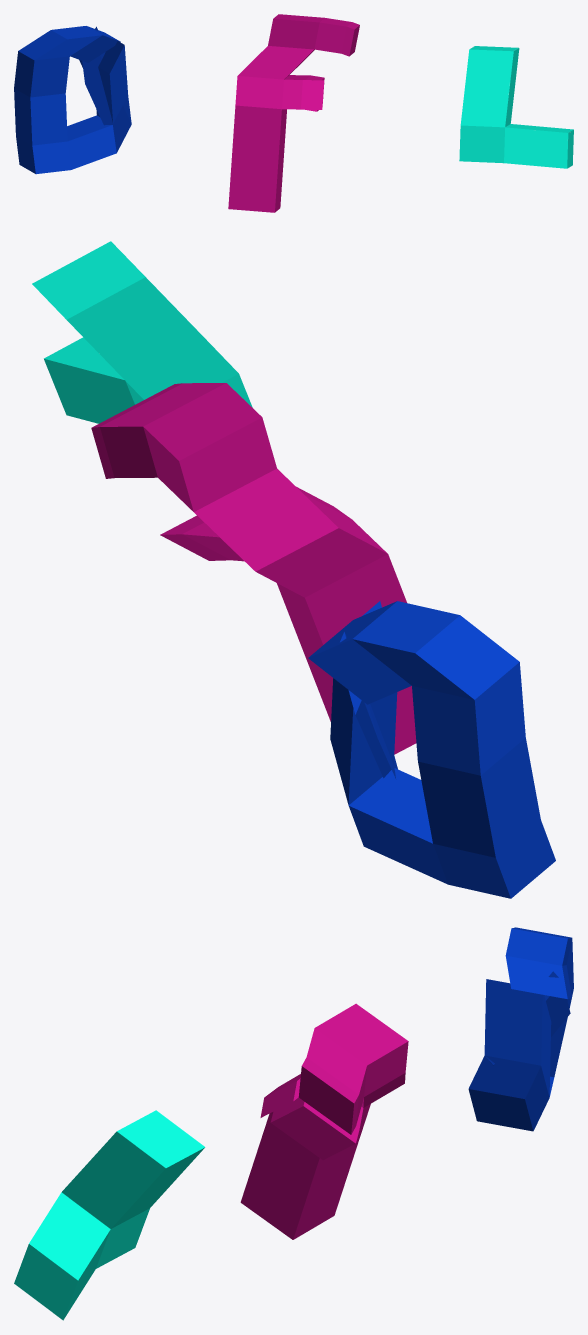
The model's file is dfl-loading3.glb.
3 views of the same model, one above another, from view 1: azimuth 30°, elevation 25°; view 2: azimuth 150°, elevation 25°; view 3: azimuth 270°, elevation 25° (orthographic). The views are drawn at different scales.
Parts seen in each view (by area): view 1: Cube.002, Cube.001, Cube; view 2: Cube.002, Cube.001, Cube; view 3: Cube.001, Cube, Cube.002.
Boxes of the visible parts, box(x1,y1,x2,y2) form: Cube.002: box(14, 26, 131, 174); Cube.001: box(228, 14, 359, 212); Cube: box(459, 46, 573, 168); Cube.002: box(308, 601, 555, 898); Cube.001: box(91, 383, 416, 754); Cube: box(32, 241, 252, 423); Cube.001: box(240, 1003, 408, 1239); Cube: box(14, 1110, 205, 1320); Cube.002: box(468, 927, 573, 1131).
Size of the model in its own units: 10.88 by 4.45 by 9.15.
Materials: 3 (3 with a texture image).
